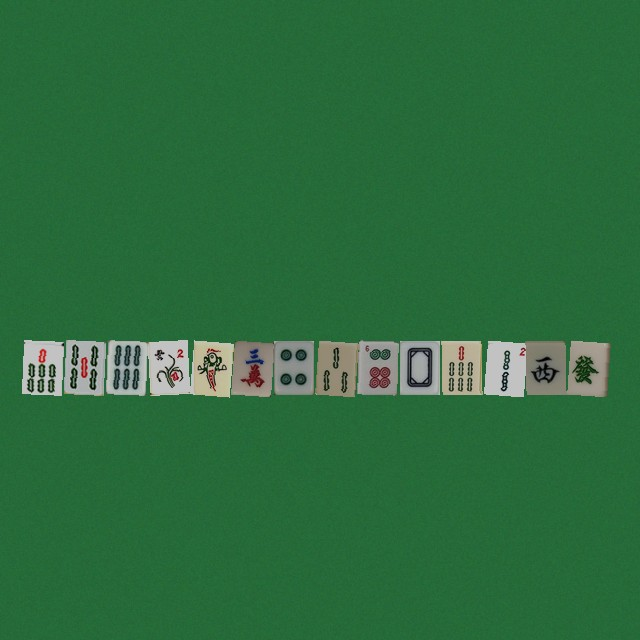tile: (21, 340, 61, 394), (63, 340, 103, 394), (105, 340, 145, 394), (147, 340, 187, 394), (189, 340, 229, 394), (231, 340, 271, 394), (273, 340, 313, 394), (315, 340, 355, 394), (357, 340, 397, 394), (399, 340, 439, 394), (441, 340, 481, 394), (483, 340, 523, 394), (525, 340, 565, 394), (567, 340, 607, 394)
